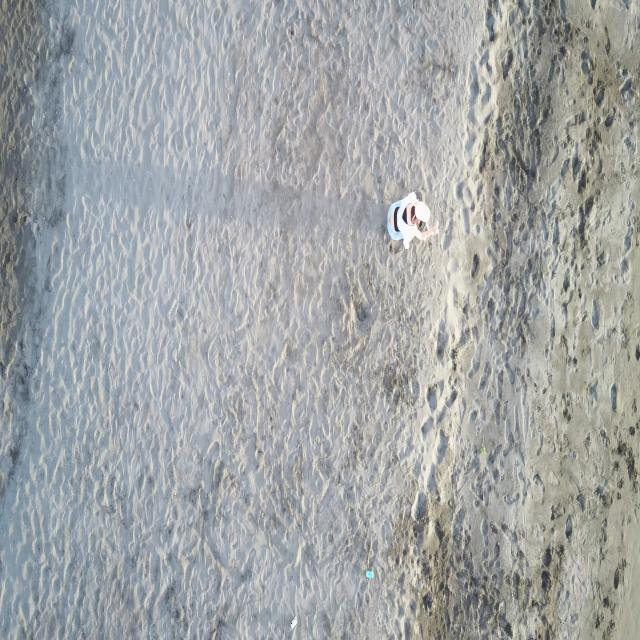Garbage: (289, 617, 296, 628), (366, 569, 372, 579), (480, 446, 486, 455)
